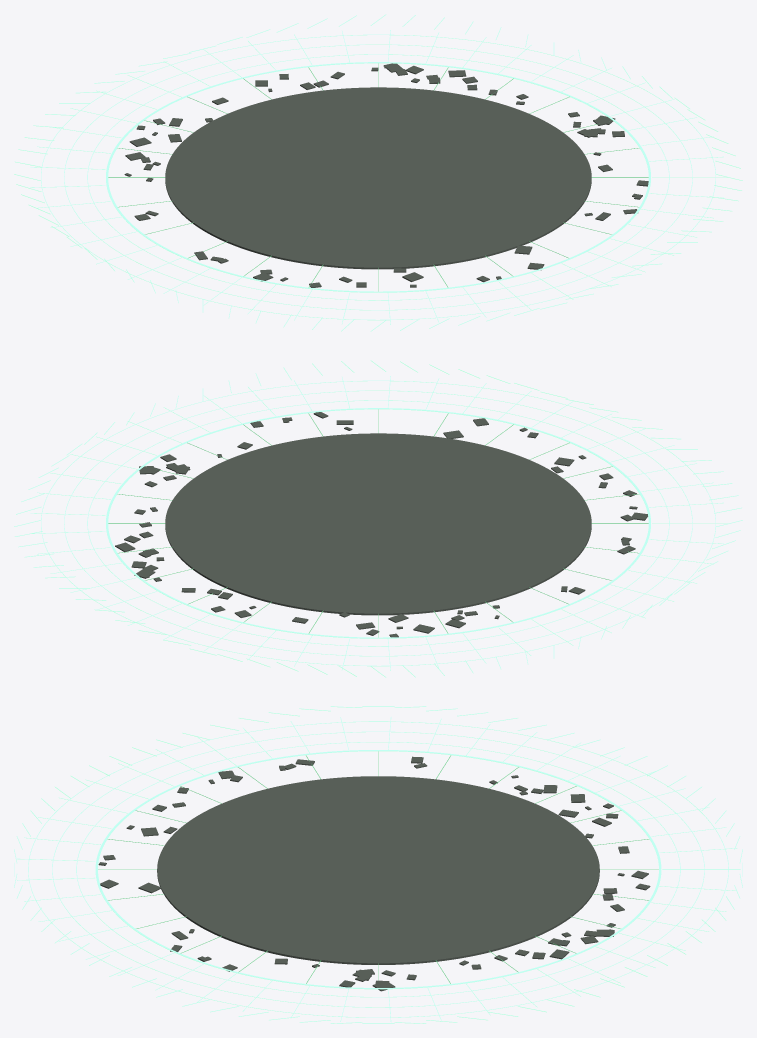
File: world.glb
3 views of the same model, one above another, from view 1: azimuth 30°, elevation 25°; view 2: azimuth 150°, elevation 25°; view 3: azimuth 270°, elevation 25° (orthographic). The views are drawn at different scales.
Parts seen in each view (by area): view 1: world-000, world-095, world-143, world-142, world-141; view 2: world-000, world-095, world-143, world-142, world-141; view 3: world-000, world-095, world-143, world-142, world-141.
Boxes of the visible parts, x1=… form: world-000: x1=165, y1=87, x2=591, y2=269; world-095: x1=106, y1=62, x2=650, y2=292; world-143: x1=41, y1=34, x2=715, y2=320; world-142: x1=64, y1=44, x2=692, y2=310; world-141: x1=87, y1=54, x2=669, y2=300; world-000: x1=165, y1=433, x2=591, y2=615; world-095: x1=106, y1=408, x2=650, y2=638; world-143: x1=41, y1=380, x2=715, y2=666; world-142: x1=64, y1=390, x2=692, y2=656; world-141: x1=87, y1=400, x2=669, y2=646; world-000: x1=157, y1=776, x2=599, y2=964; world-095: x1=95, y1=750, x2=661, y2=989; world-143: x1=28, y1=721, x2=728, y2=1017; world-142: x1=52, y1=731, x2=704, y2=1007; world-141: x1=76, y1=742, x2=680, y2=997.
Size of the model in its own units: 181 by 3.15 by 181.
